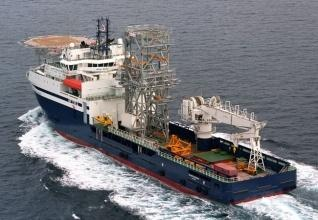otherboat: (19, 17, 299, 204)
